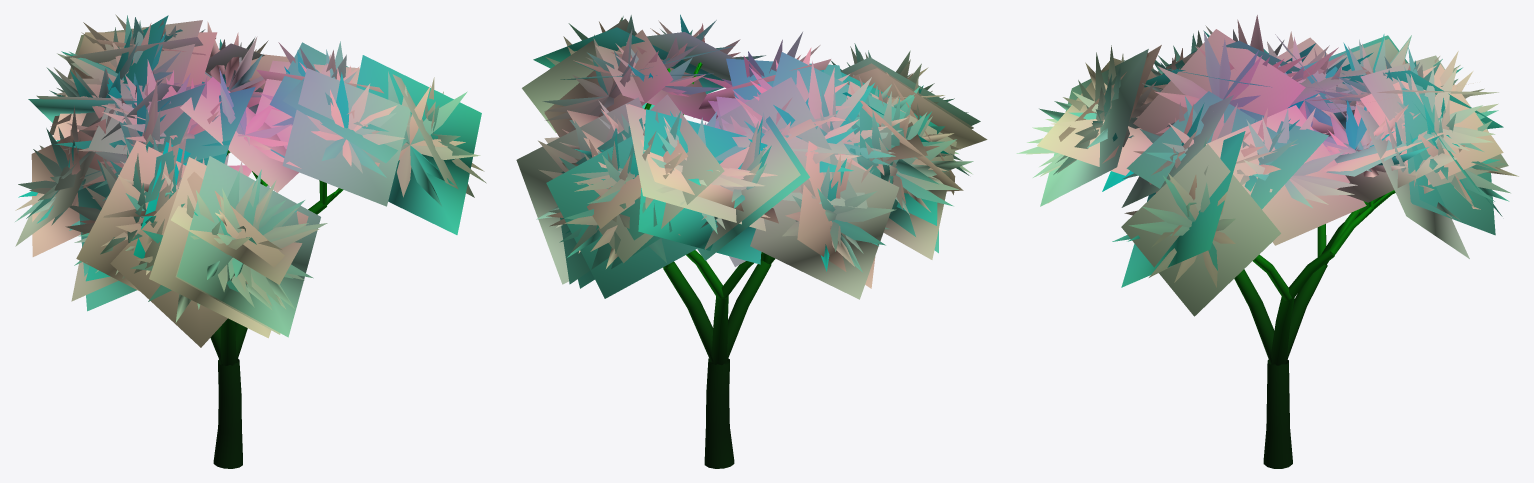
File: frangipani_1.glb
3 views of the same model, side by side, from view 1: azimuth 30°, elevation 25°; view 2: azimuth 150°, elevation 25°; view 3: azimuth 270°, elevation 25° (orthographic).
Parts seen in each view (by area): view 1: mid, near; view 2: mid, near; view 3: mid, near.
Boxes of the visible parts, x1,y1,x2,y2 form: mid: (15, 15, 481, 366); near: (15, 14, 486, 468); mid: (516, 18, 987, 365); near: (536, 14, 973, 468); mid: (1037, 29, 1508, 365); near: (1016, 15, 1518, 468).
Bounding box in the file's own units: 6.55 × 6.2 × 6.91.
